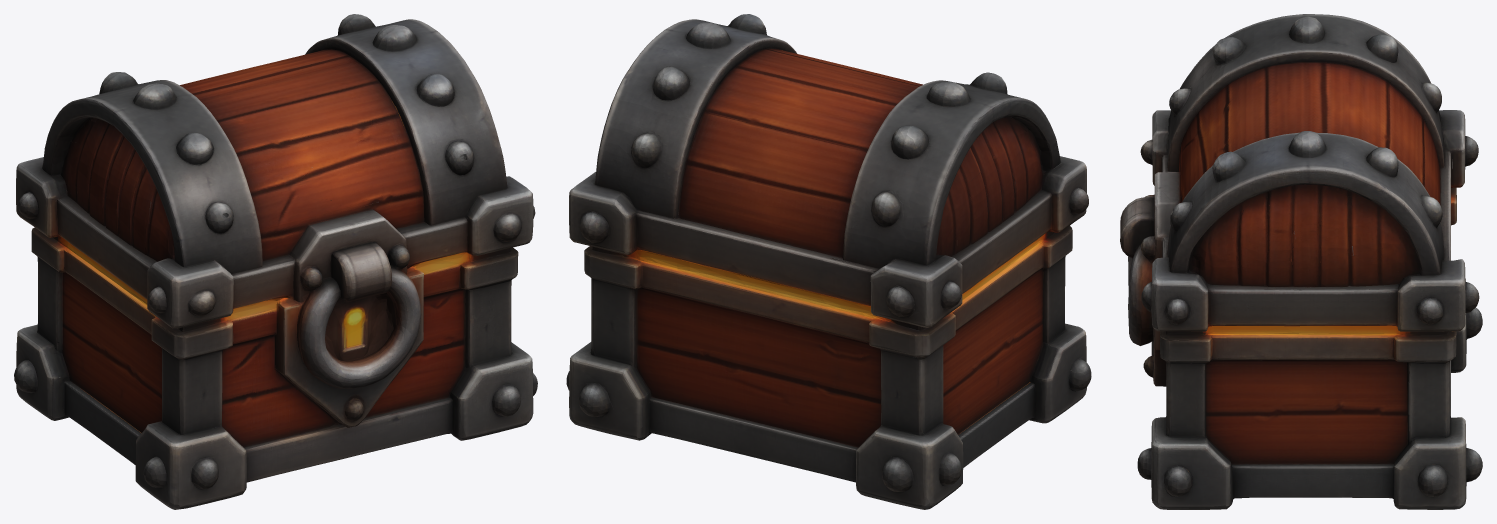
The picture shows the model from 3 angles, left to right: view 1: azimuth 30°, elevation 25°; view 2: azimuth 150°, elevation 25°; view 3: azimuth 270°, elevation 25°; orthographic projection. The views are drawn at different scales.
Visible parts, largest first — view 1: geometry_0; view 2: geometry_0; view 3: geometry_0.
Part boxes in pixels (x1,y1,x2,y2): geometry_0: [14, 14, 537, 509]; geometry_0: [566, 14, 1091, 509]; geometry_0: [1120, 14, 1482, 509].
Bounding box in the file's own units: 0.9984 × 0.8705 × 0.8195.
Materials: 1 (1 with a texture image).
